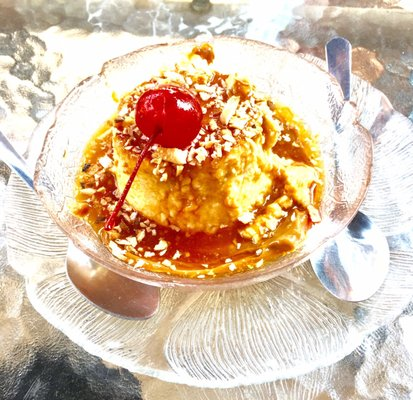sushi: (24, 13, 407, 323)
